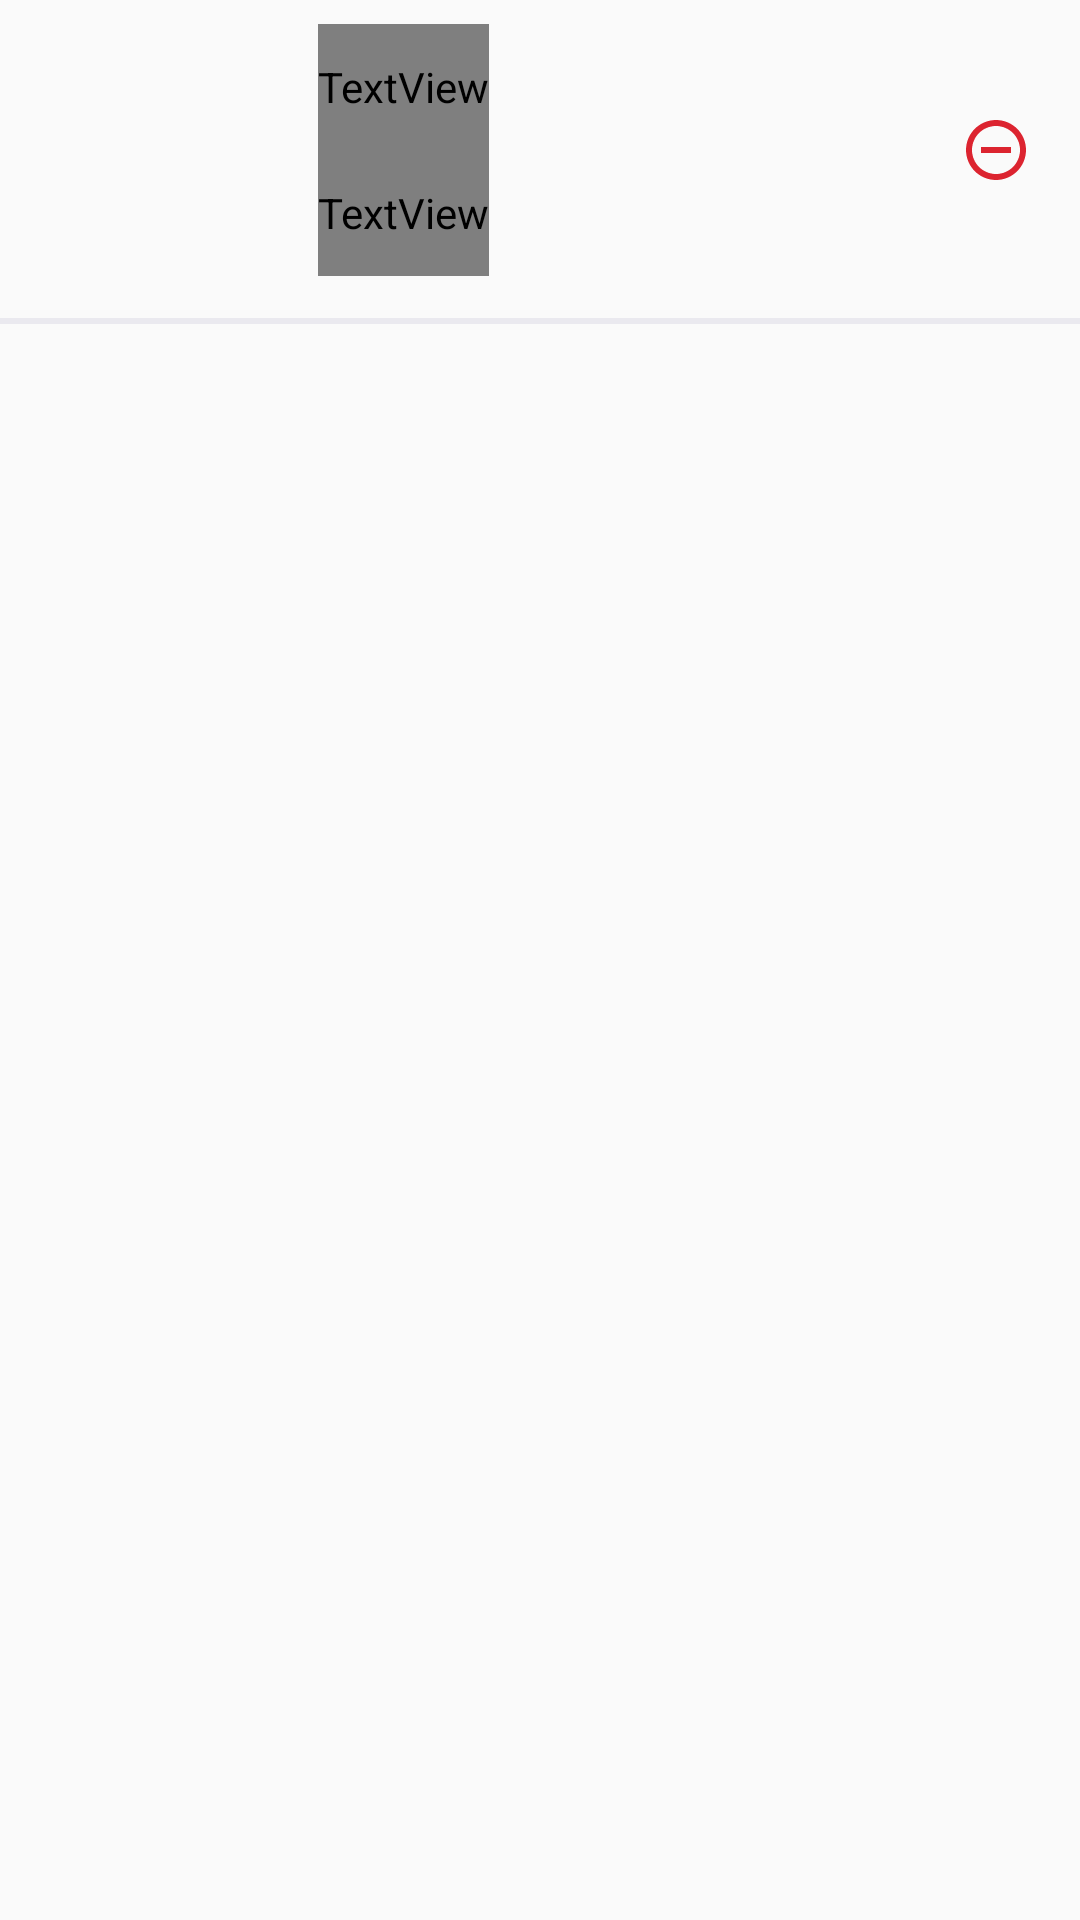

Locate icon controls on the screen. Image size 1080*1920, boxes as (x1,y1,x2,y2).
remove circle: (966,120,1026,180)
